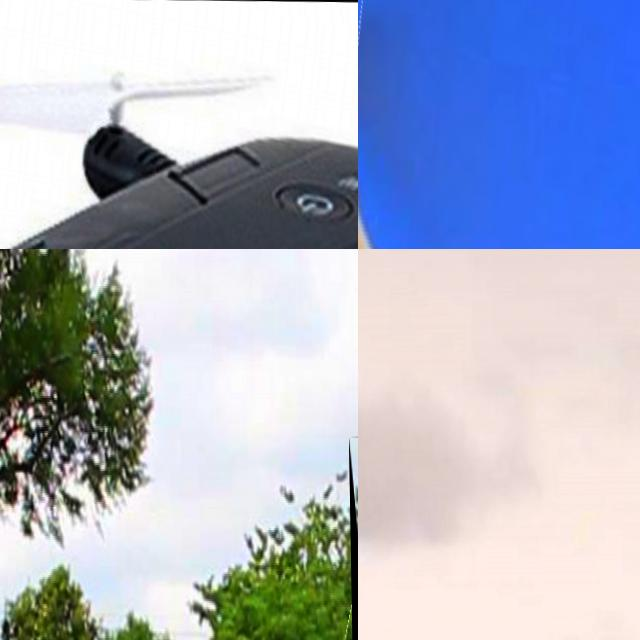drone: (0, 0, 358, 249), (358, 0, 640, 249)
